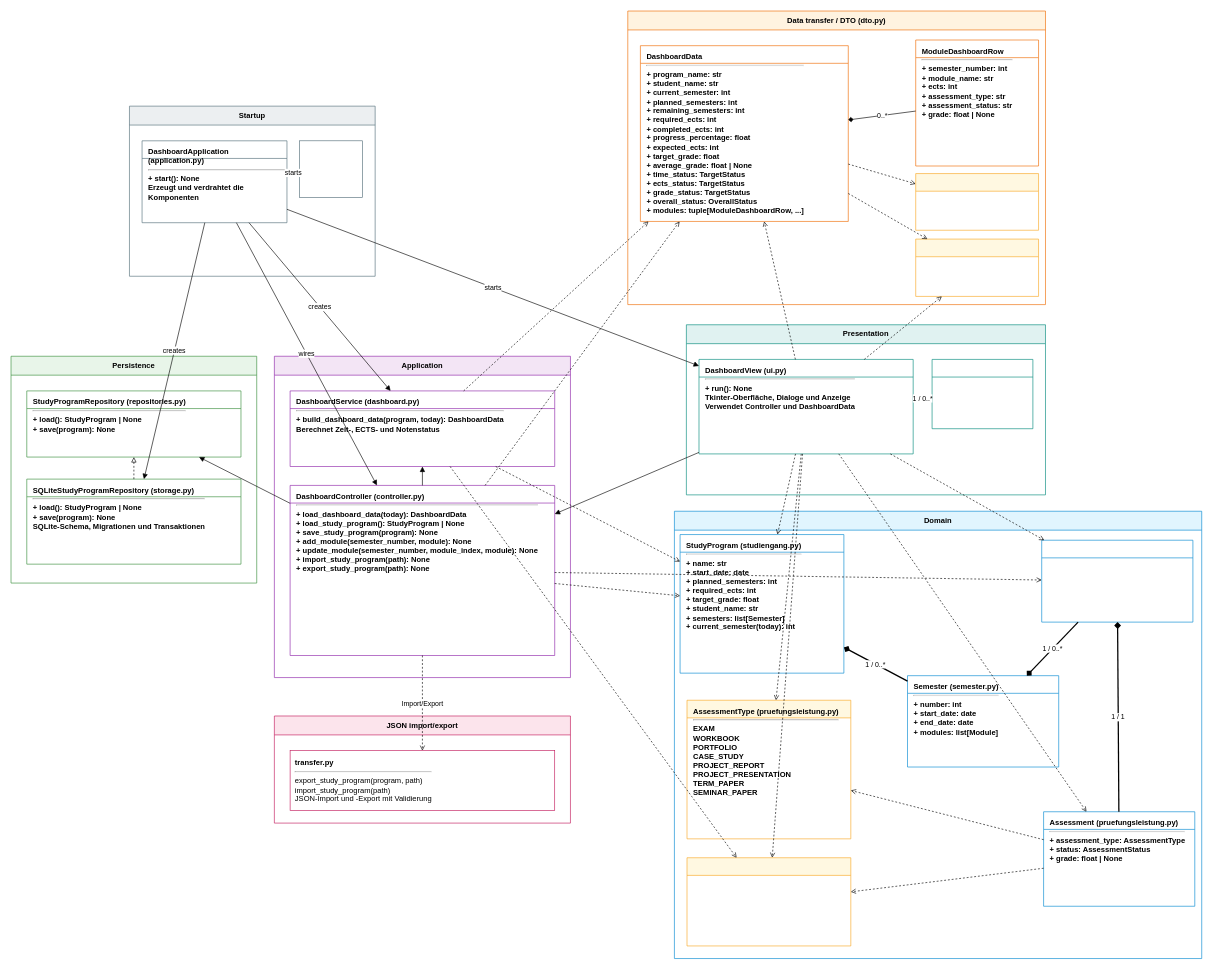
Image size: 1213x970. Some labels were removed from this diagram. The shapes that lost their labels are listed below. From the top down, each one's centre as x and y in pixels, then its label:
At point 331,169: "main.py main() Programmeinstieg".
At point 977,201: "TargetStatus ON_TRACK BEHIND NO_DATA".
At point 977,267: "OverallStatus ON_TRACK AT_RISK OVERDUE".
At point 982,394: "ProgressBar (ui.py) Tkinter-Canvas für Fortschrittsanzeigen".
At point 1117,581: "Module (modul.py) + name: str + ects: int + assessment: Assessment".
At point 768,901: "AssessmentStatus (pruefungsleistung.py) OPEN IN_PROGRESS PASSED FAILED".
